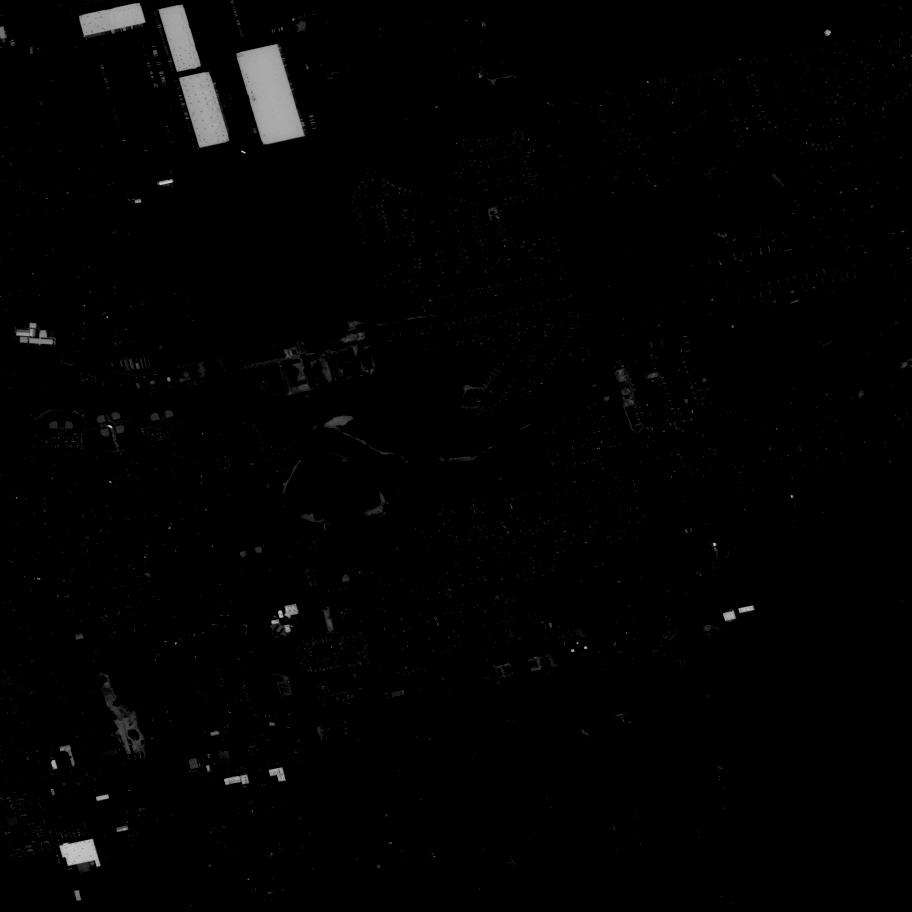storage-tank: (824, 30, 831, 36)
